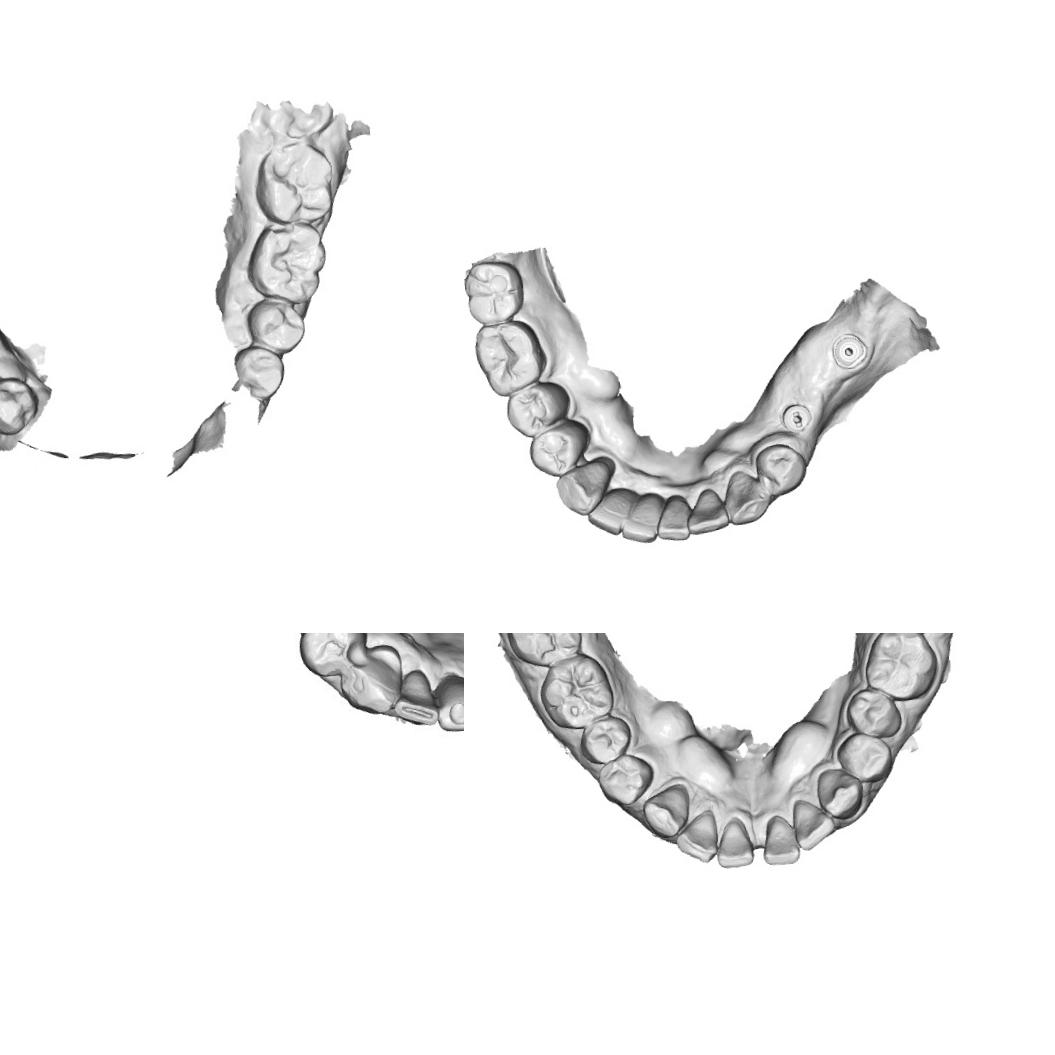canine: (336, 642, 406, 718), (552, 457, 615, 519), (637, 780, 693, 842), (812, 764, 866, 822), (722, 466, 772, 528)
implant: (829, 330, 870, 371)
implant_minus: (778, 400, 816, 436)
incisor: (390, 666, 440, 730), (672, 808, 724, 869), (788, 793, 838, 854), (683, 484, 734, 536), (584, 487, 636, 538), (710, 816, 756, 872), (617, 492, 664, 546), (756, 813, 802, 868), (432, 672, 464, 734), (652, 495, 692, 544)
molar: (250, 138, 338, 230), (242, 222, 328, 302), (536, 649, 618, 732), (470, 315, 549, 398), (859, 633, 942, 704), (464, 256, 526, 327), (502, 633, 585, 668)
premolar: (502, 378, 574, 440), (242, 293, 307, 356), (840, 682, 904, 742), (832, 728, 897, 786), (526, 420, 589, 479), (592, 751, 656, 808), (571, 712, 635, 768), (293, 633, 370, 679), (231, 339, 287, 402), (752, 439, 810, 498), (0, 372, 37, 438)
